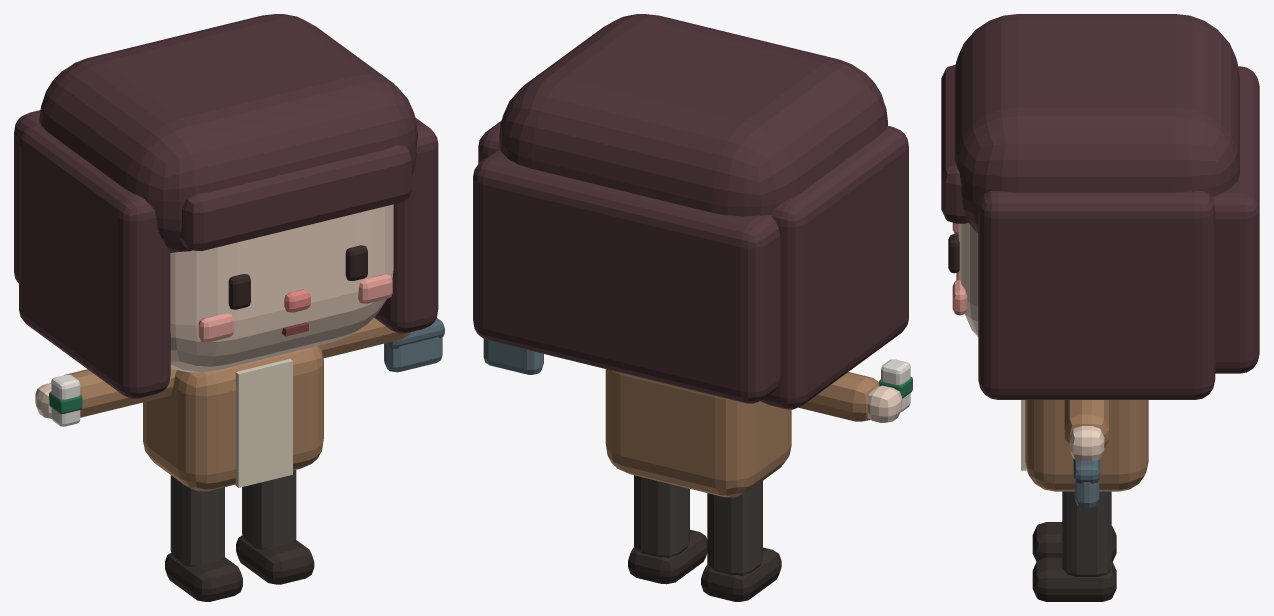
File: CHAR_Customer_normal_girlbob.fbx
3 renders of one model, left to right at view 1: azimuth 30°, elevation 25°; view 2: azimuth 150°, elevation 25°; view 3: azimuth 270°, elevation 25°, orthographic. The views are drawn at different scales.
Parts seen in each view (by area): view 1: CHAR_Customer_normal_girlbob; view 2: CHAR_Customer_normal_girlbob; view 3: CHAR_Customer_normal_girlbob.
Part boxes in pixels (x1,y1,x2,y2): CHAR_Customer_normal_girlbob: (14, 14, 444, 601); CHAR_Customer_normal_girlbob: (473, 14, 912, 601); CHAR_Customer_normal_girlbob: (941, 14, 1259, 601).
Size of the model in its own units: 0.0962 by 0.115 by 0.0645.
